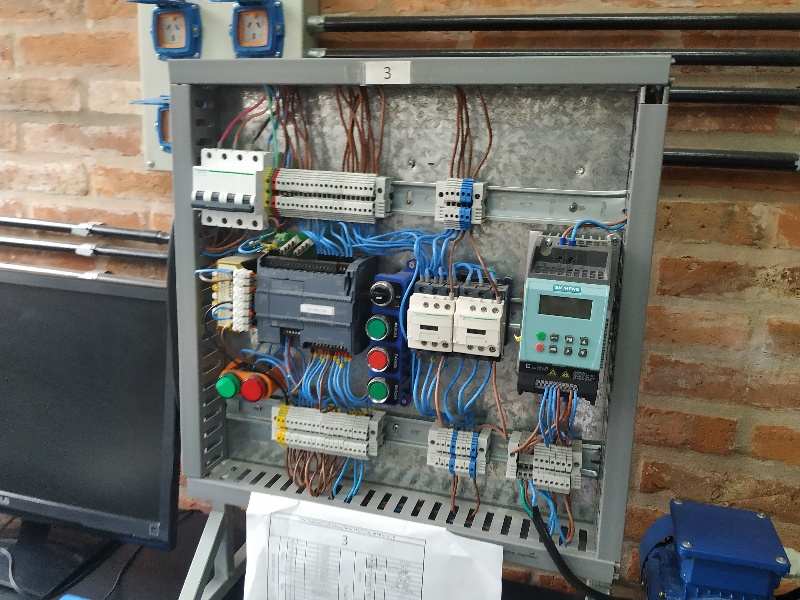Tablero 3: (178, 64, 626, 560)
